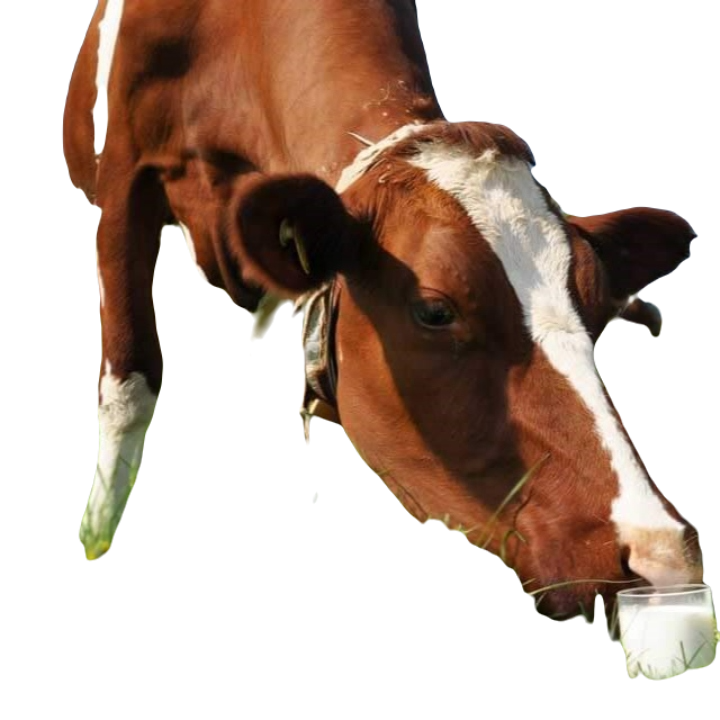Cow: (59, 0, 704, 631)
